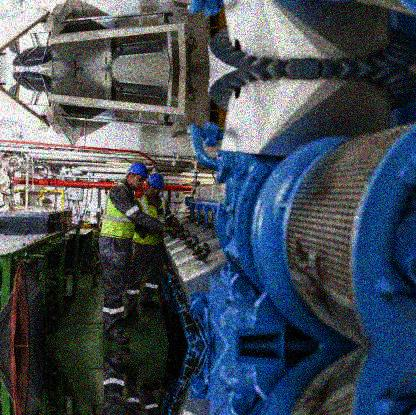helmet: (125, 162, 149, 190), (147, 173, 165, 197)
